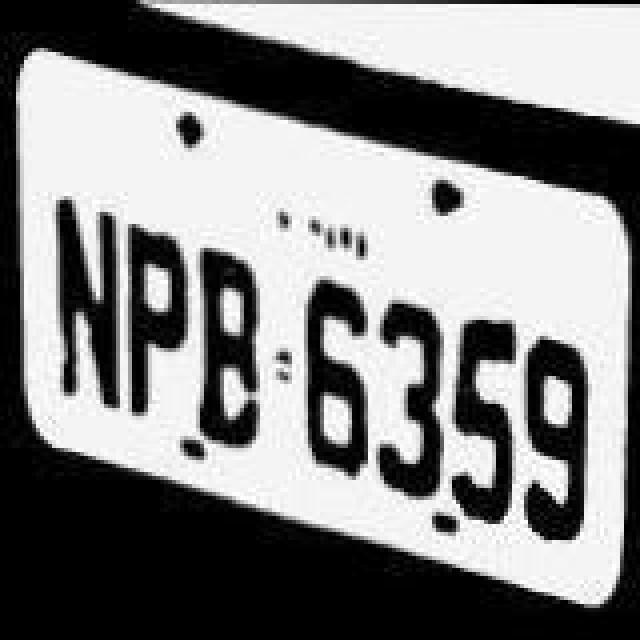3: (374, 244, 446, 512)
5: (448, 248, 516, 524)
6: (296, 260, 372, 496)
9: (520, 254, 588, 554)
B: (190, 242, 270, 458)
N: (56, 172, 124, 436)
P: (124, 214, 192, 434)
